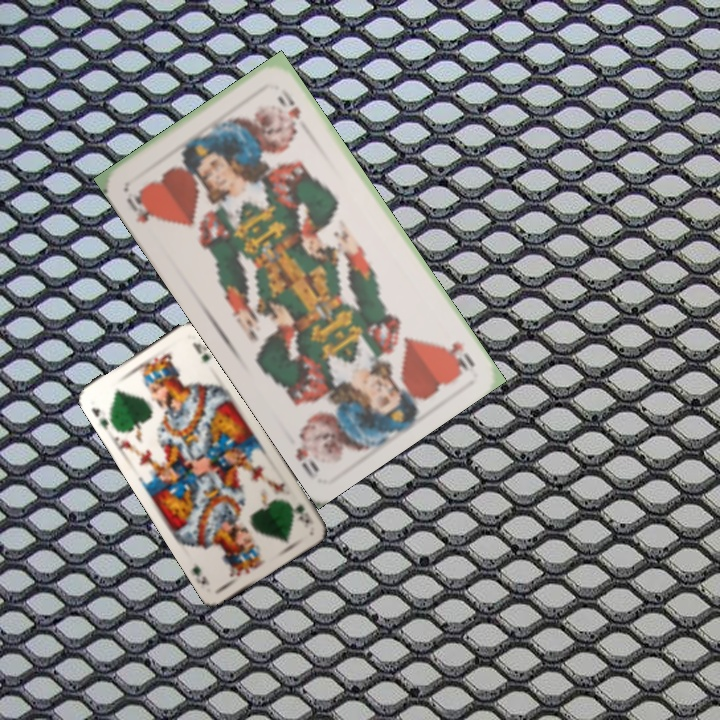GK: (88, 403, 111, 433), (291, 500, 312, 526)
HO: (122, 186, 162, 226), (439, 338, 477, 377)
